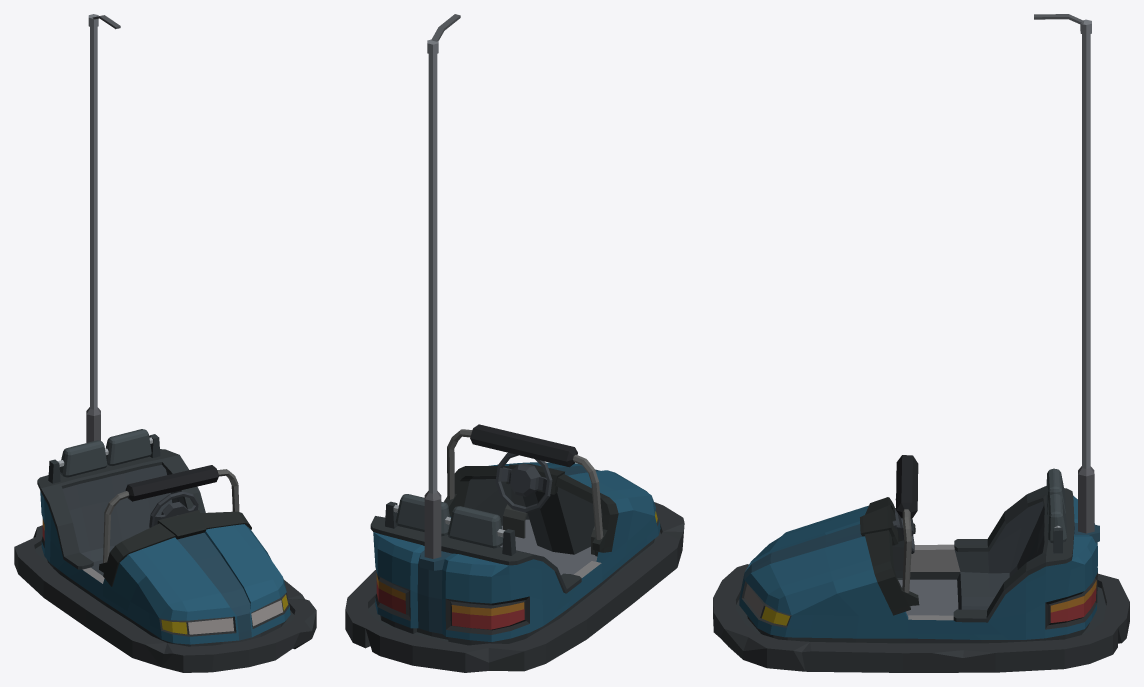
Rendered from bumper-cars.glb.
3 views of the same model, side by side, from view 1: azimuth 30°, elevation 25°; view 2: azimuth 150°, elevation 25°; view 3: azimuth 270°, elevation 25° (orthographic). The views are drawn at different scales.
Parts seen in each view (by area): view 1: SM_Veh_Bumper_Cars_01; view 2: SM_Veh_Bumper_Cars_01; view 3: SM_Veh_Bumper_Cars_01.
Part boxes in pixels (<box>): SM_Veh_Bumper_Cars_01: <box>14,14,316,672</box>; SM_Veh_Bumper_Cars_01: <box>345,14,684,672</box>; SM_Veh_Bumper_Cars_01: <box>713,14,1129,672</box>.
Bounding box in the file's own units: 136 × 382 × 236.
1 material, 1 textured.
